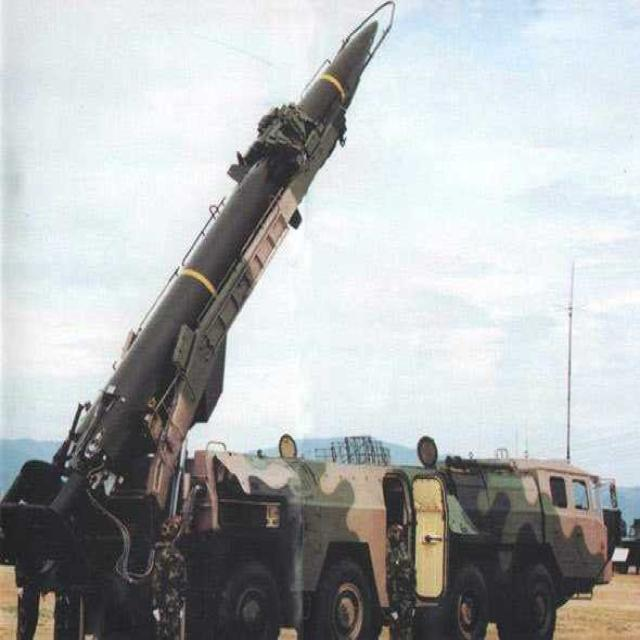missile: (0, 0, 397, 633)
